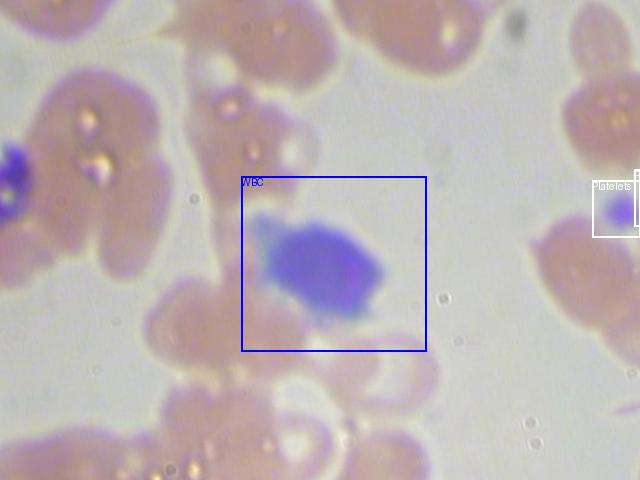Platelets: (592, 180, 640, 237), (634, 169, 640, 226)
WBC: (241, 176, 426, 351)
